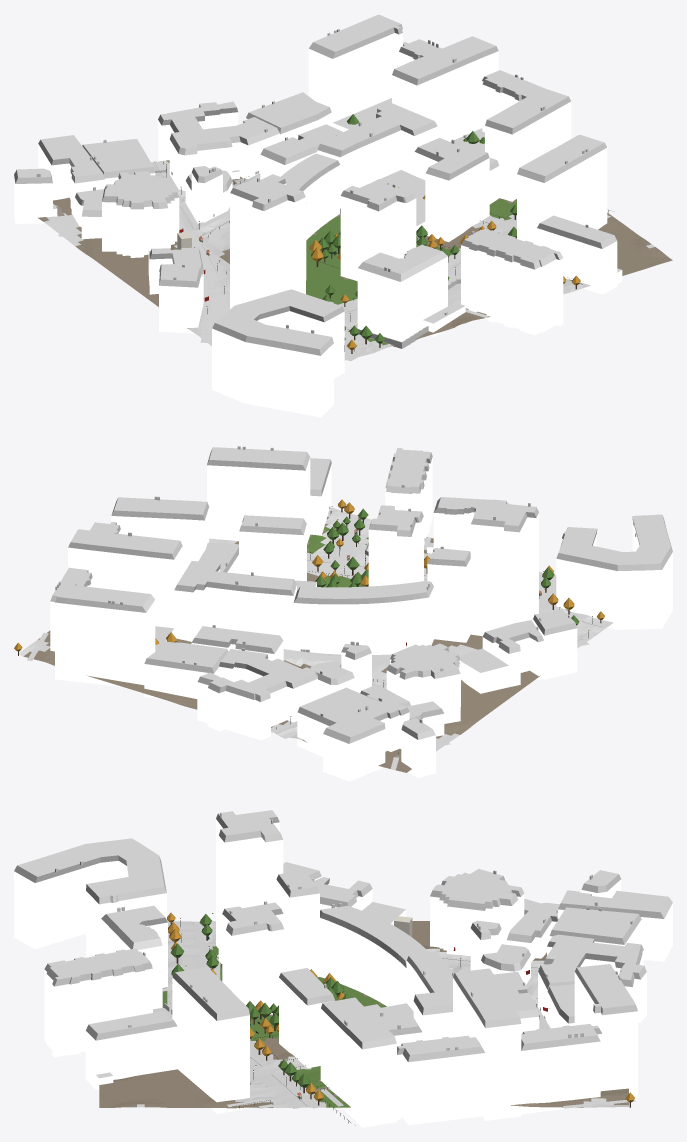
The model's file is zone_F6.glb.
3 views of the same model, one above another, from view 1: azimuth 30°, elevation 25°; view 2: azimuth 150°, elevation 25°; view 3: azimuth 270°, elevation 25° (orthographic). The views are drawn at different scales.
Parts seen in each view (by area): view 1: zone_F6_batiments, zone_F6_terrain, zone_F6_sol_NOCOL, zone_F6_decor_NOCOL; view 2: zone_F6_batiments, zone_F6_terrain, zone_F6_sol_NOCOL, zone_F6_decor_NOCOL; view 3: zone_F6_batiments, zone_F6_terrain, zone_F6_sol_NOCOL, zone_F6_decor_NOCOL.
Boxes of the visible parts, x1=… form: zone_F6_batiments: x1=14, y1=14, x2=622, y2=417; zone_F6_terrain: x1=38, y1=160, x2=672, y2=360; zone_F6_sol_NOCOL: x1=55, y1=161, x2=610, y2=361; zone_F6_decor_NOCOL: x1=163, y1=114, x2=609, y2=353; zone_F6_batiments: x1=50, y1=446, x2=672, y2=781; zone_F6_terrain: x1=19, y1=507, x2=613, y2=772; zone_F6_sol_NOCOL: x1=27, y1=510, x2=603, y2=770; zone_F6_decor_NOCOL: x1=14, y1=499, x2=604, y2=754; zone_F6_batiments: x1=14, y1=810, x2=672, y2=1127; zone_F6_terrain: x1=99, y1=921, x2=628, y2=1108; zone_F6_sol_NOCOL: x1=162, y1=922, x2=635, y2=1108; zone_F6_decor_NOCOL: x1=167, y1=912, x2=634, y2=1125.
Size of the model in its own units: 244 by 64.64 by 261.
